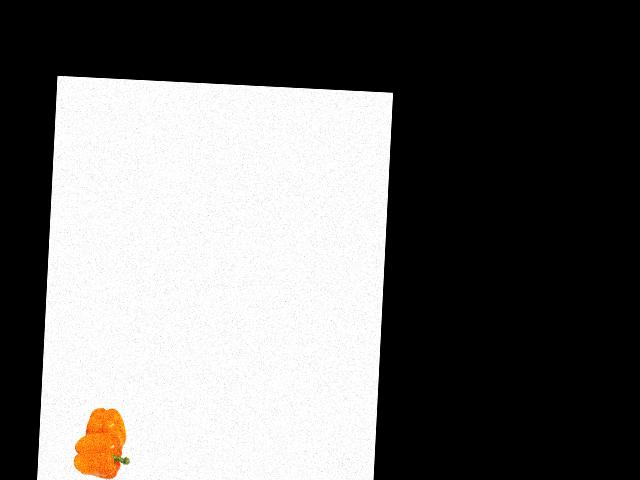bell_pepper: (79, 403, 129, 450)
